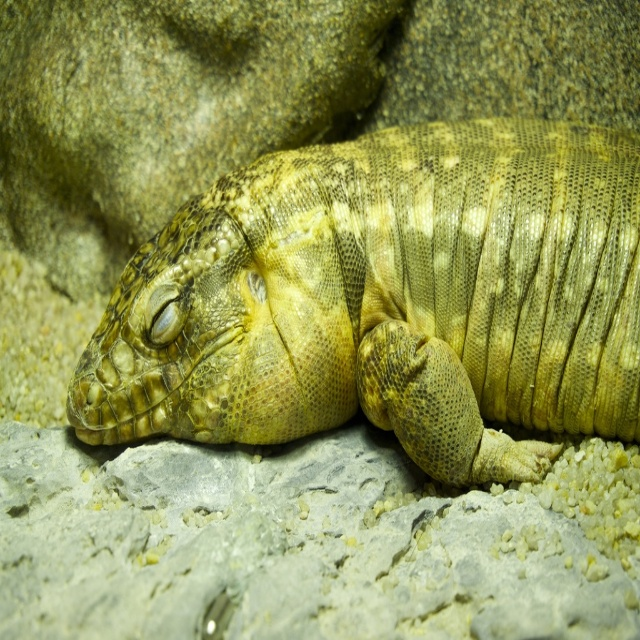Lizard: (67, 118, 638, 482)
